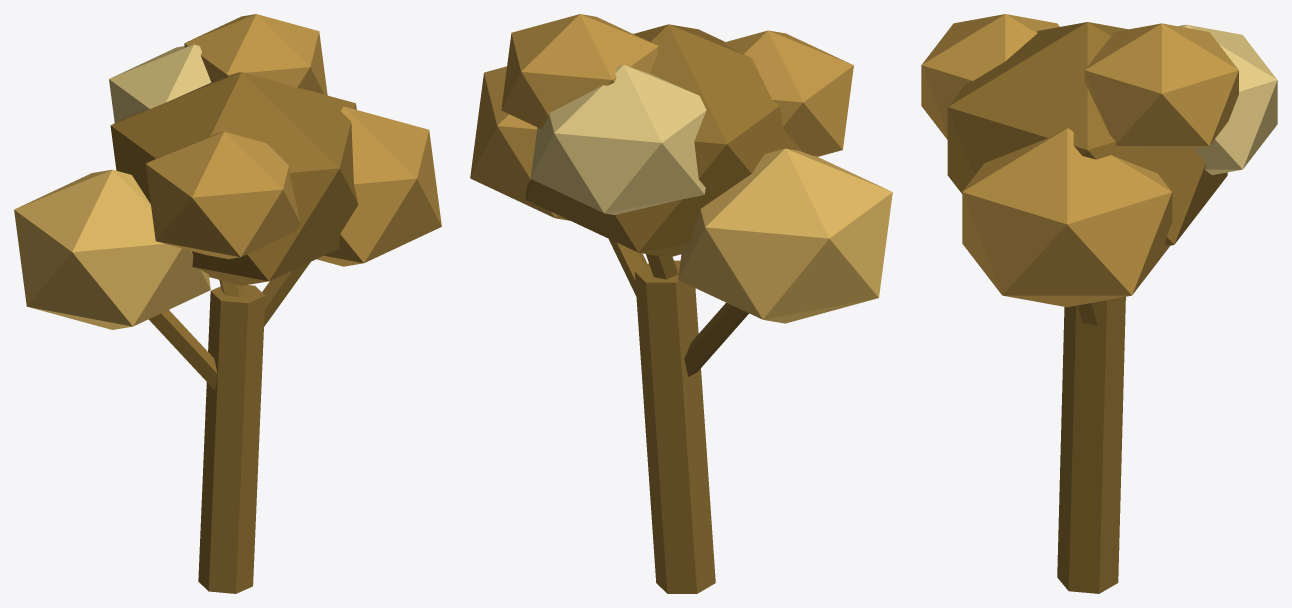
Rendered from gold_oak.glb.
3 renders of one model, left to right at view 1: azimuth 30°, elevation 25°; view 2: azimuth 150°, elevation 25°; view 3: azimuth 270°, elevation 25°, orthographic. The views are drawn at different scales.
Parts seen in each view (by area): view 1: golden leaves, golden leaves.001, gilded trunk, golden leaves.004, golden leaves.002, golden leaves.005, golden leaves.003, gilded bough, gilded bough.001; view 2: golden leaves.001, golden leaves, golden leaves.003, gilded trunk, golden leaves.005, golden leaves.004, golden leaves.002, gilded bough, gilded bough.001, gilded bough.002; view 3: golden leaves.002, golden leaves, gilded trunk, golden leaves.005, golden leaves.004, golden leaves.003.
Part boxes in pixels (box(x1,y1,x2,y2)): golden leaves: box(110, 72, 358, 285); golden leaves.001: box(14, 169, 210, 329); gilded trunk: box(198, 285, 265, 593); golden leaves.004: box(145, 131, 300, 259); golden leaves.002: box(316, 106, 441, 266); golden leaves.005: box(184, 14, 327, 95); golden leaves.003: box(109, 44, 211, 122); gilded bough: box(149, 310, 217, 389); gilded bough.001: box(262, 262, 310, 326); golden leaves.001: box(678, 148, 892, 323); golden leaves: box(525, 24, 802, 256); golden leaves.003: box(530, 65, 706, 214); gilded trunk: box(634, 260, 715, 593); golden leaves.005: box(501, 14, 658, 128); golden leaves.004: box(722, 30, 853, 156); golden leaves.002: box(470, 66, 570, 220); gilded bough: box(684, 302, 748, 376); gilded bough.001: box(608, 239, 647, 295); gilded bough.002: box(646, 254, 678, 279); golden leaves.002: box(962, 128, 1172, 307); golden leaves: box(947, 22, 1227, 246); gilded trunk: box(1057, 296, 1125, 593); golden leaves.005: box(1084, 23, 1238, 151); golden leaves.004: box(921, 14, 1059, 139); golden leaves.003: box(1178, 24, 1277, 174).
Size of the model in its own units: 1.2 by 1.59 by 0.8653.
